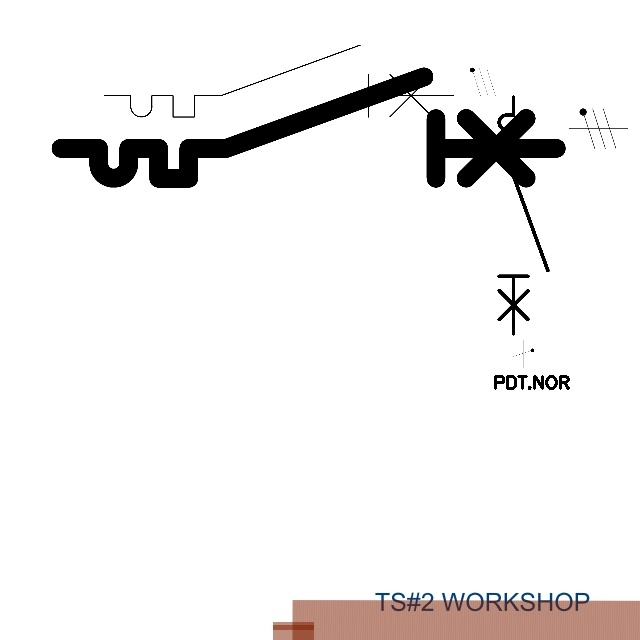interruptor_termomagnetico: (48, 64, 569, 191), (95, 36, 463, 126), (493, 91, 554, 340)
